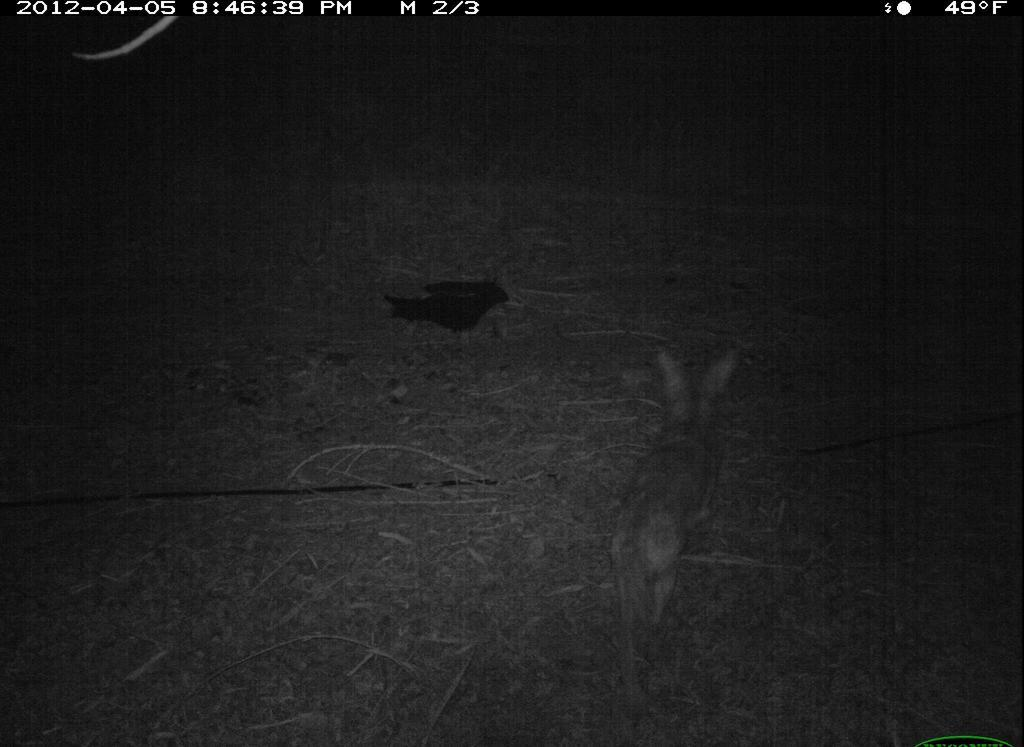coyote: (600, 342, 748, 696)
